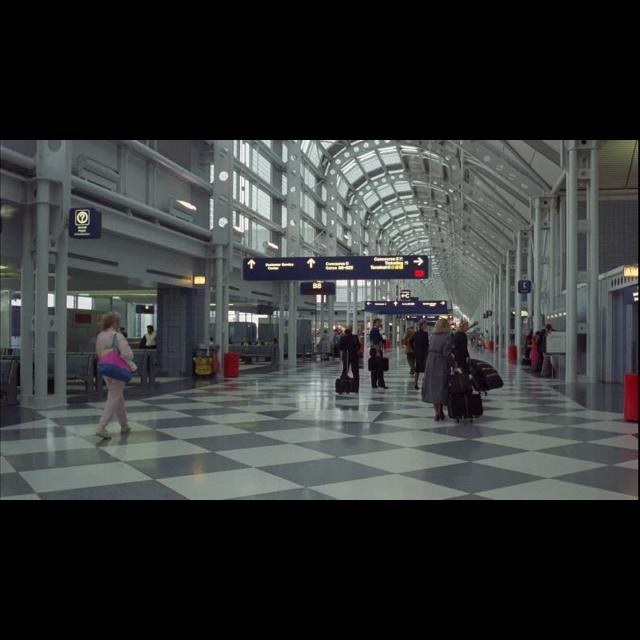head: (102, 311, 122, 331), (437, 320, 449, 332), (373, 317, 383, 328), (460, 322, 470, 332), (419, 320, 427, 330), (345, 326, 353, 334), (407, 326, 415, 334), (546, 326, 554, 334), (148, 326, 154, 334), (541, 328, 547, 336), (528, 331, 534, 337), (535, 332, 541, 338), (324, 330, 330, 334), (383, 332, 385, 336)
person: (417, 316, 488, 426), (89, 308, 140, 442), (448, 316, 506, 400), (407, 318, 437, 392), (332, 324, 362, 396), (366, 318, 390, 390), (138, 324, 160, 376), (401, 323, 422, 377), (539, 322, 555, 380), (313, 327, 332, 363), (530, 331, 542, 374), (536, 327, 546, 371), (523, 331, 535, 362), (379, 332, 389, 354)
